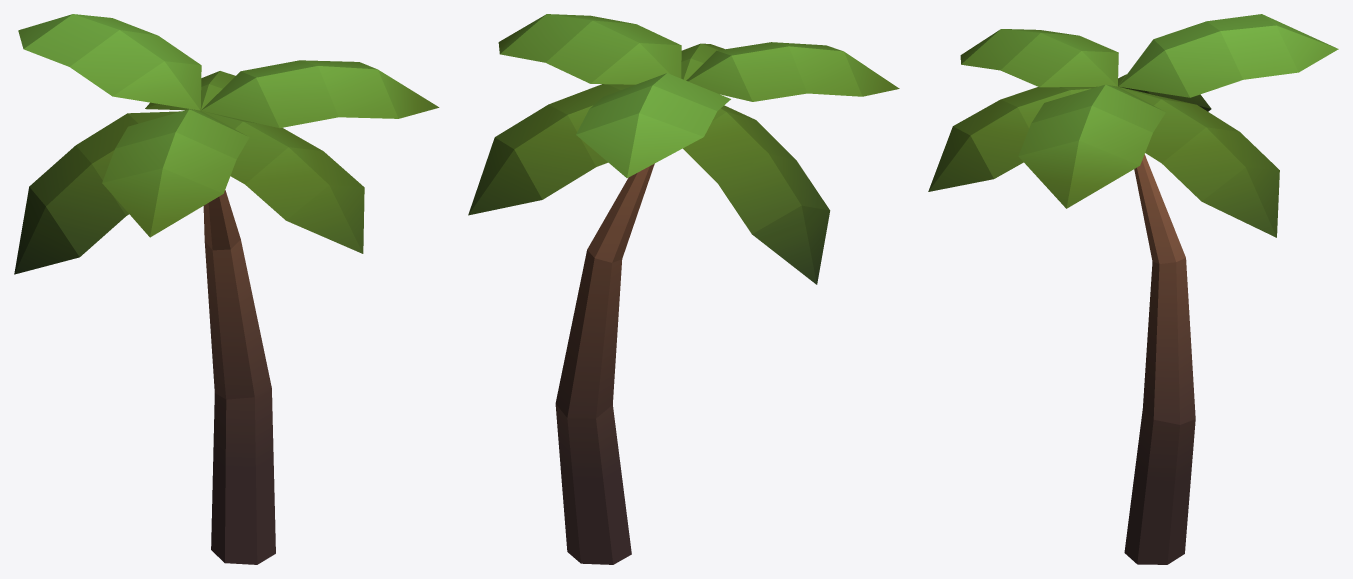
File: SM_Tree_000.fbx
The picture shows the model from 3 angles, left to right: view 1: azimuth 30°, elevation 25°; view 2: azimuth 150°, elevation 25°; view 3: azimuth 270°, elevation 25°; orthographic projection. The views are drawn at different scales.
Visible parts, largest first — view 1: SM_Tree_000; view 2: SM_Tree_000; view 3: SM_Tree_000.
Part boxes in pixels (x1,y1,x2,y2): SM_Tree_000: [14, 14, 439, 564]; SM_Tree_000: [468, 14, 899, 564]; SM_Tree_000: [928, 14, 1338, 564].
Bounding box in the file's own units: 2.29 × 3.05 × 2.35.
